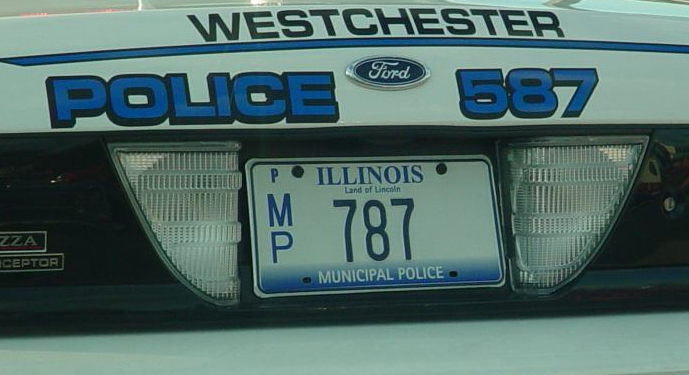license plate: (241, 153, 509, 301)
